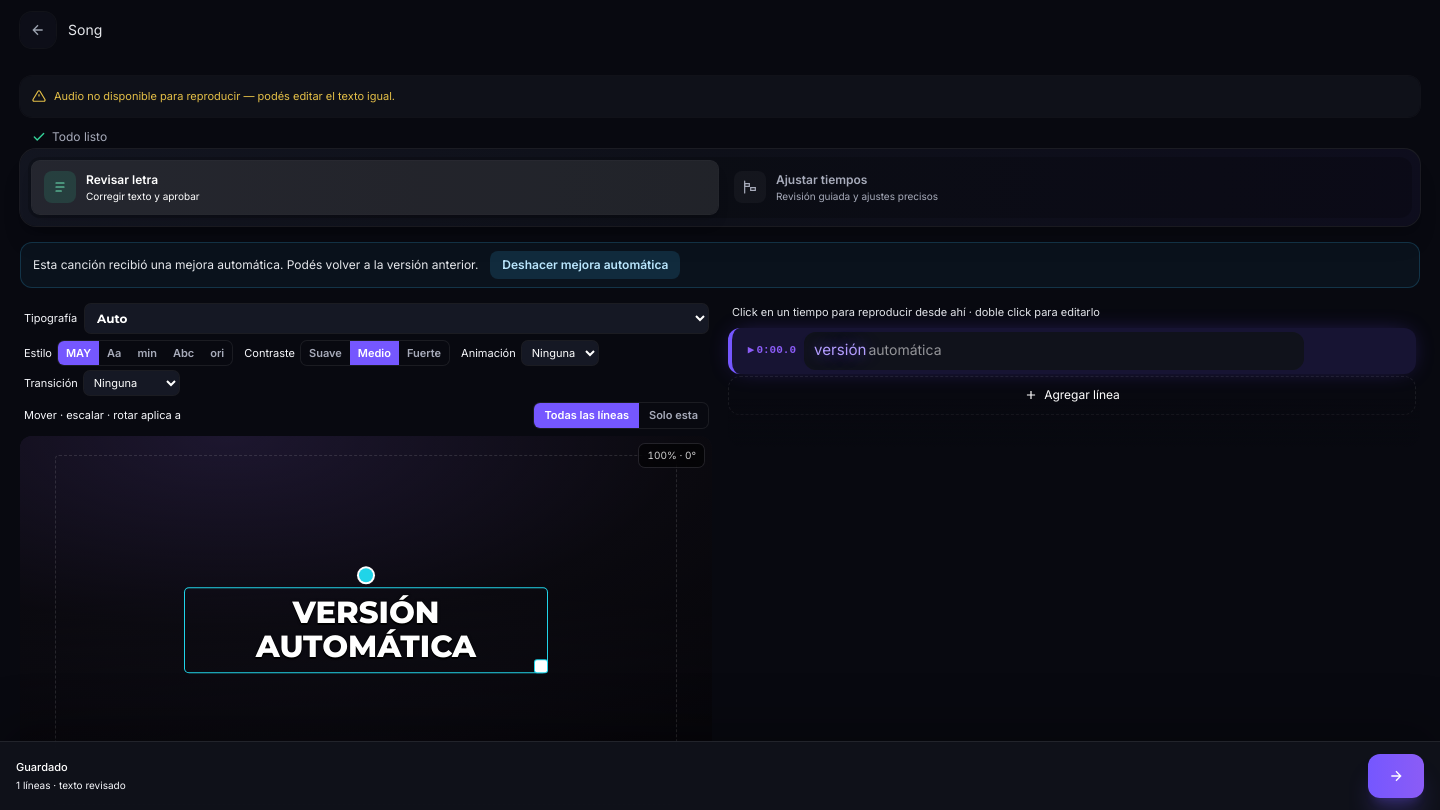
Test case: automatic repair undo in the editor › does not overwrite unsaved local edits
Replace the text in the field showing "versión automática" with "edición local sin guardar" at (1054, 351), box top-left (804, 332), bottom-right (1304, 370)
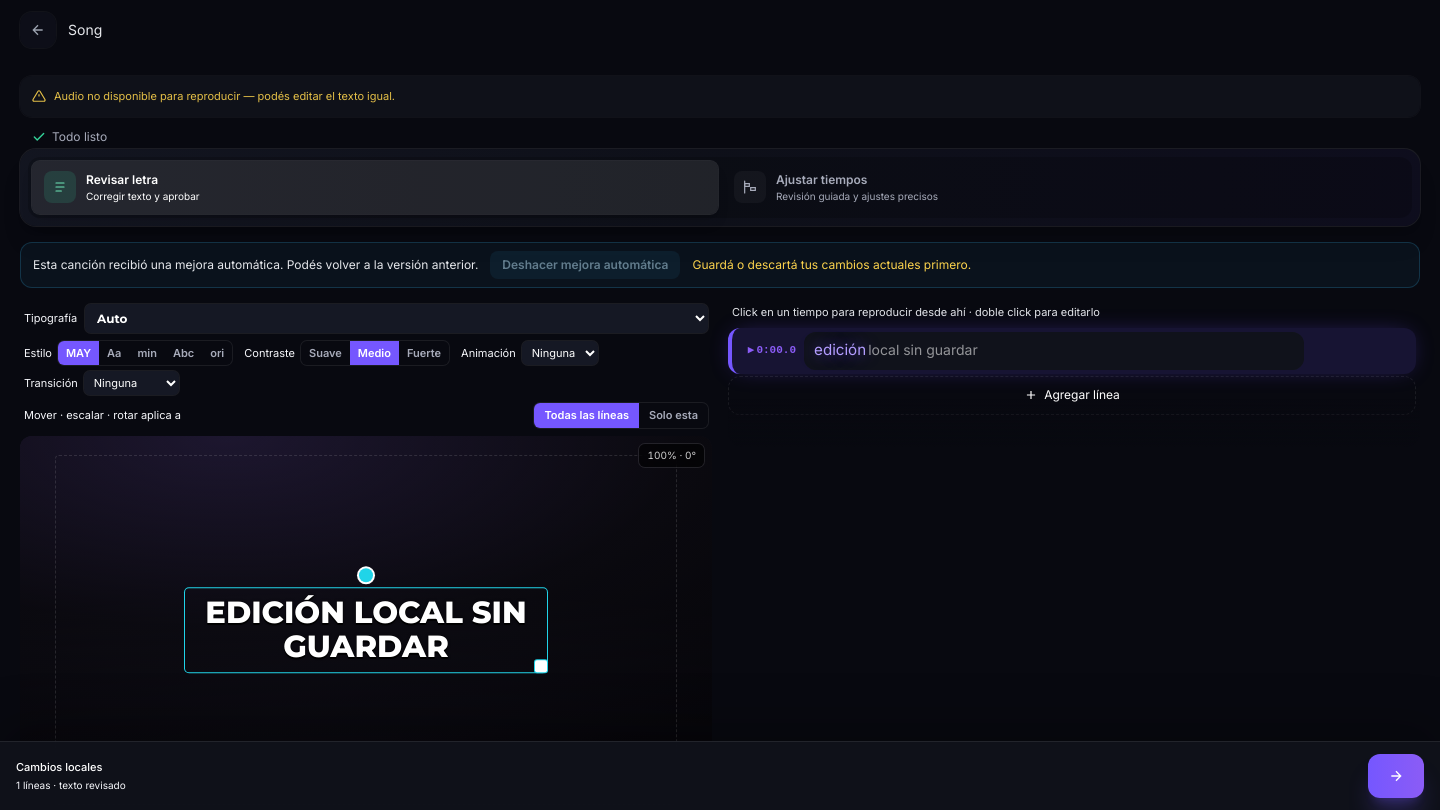
expect the button "Deshacer mejora automática" is disabled: met, box top-left (490, 250), bottom-right (680, 278)
expect the text "Guardá o descartá tus cambios actuales primero." is shown: met, box top-left (692, 256), bottom-right (971, 272)
